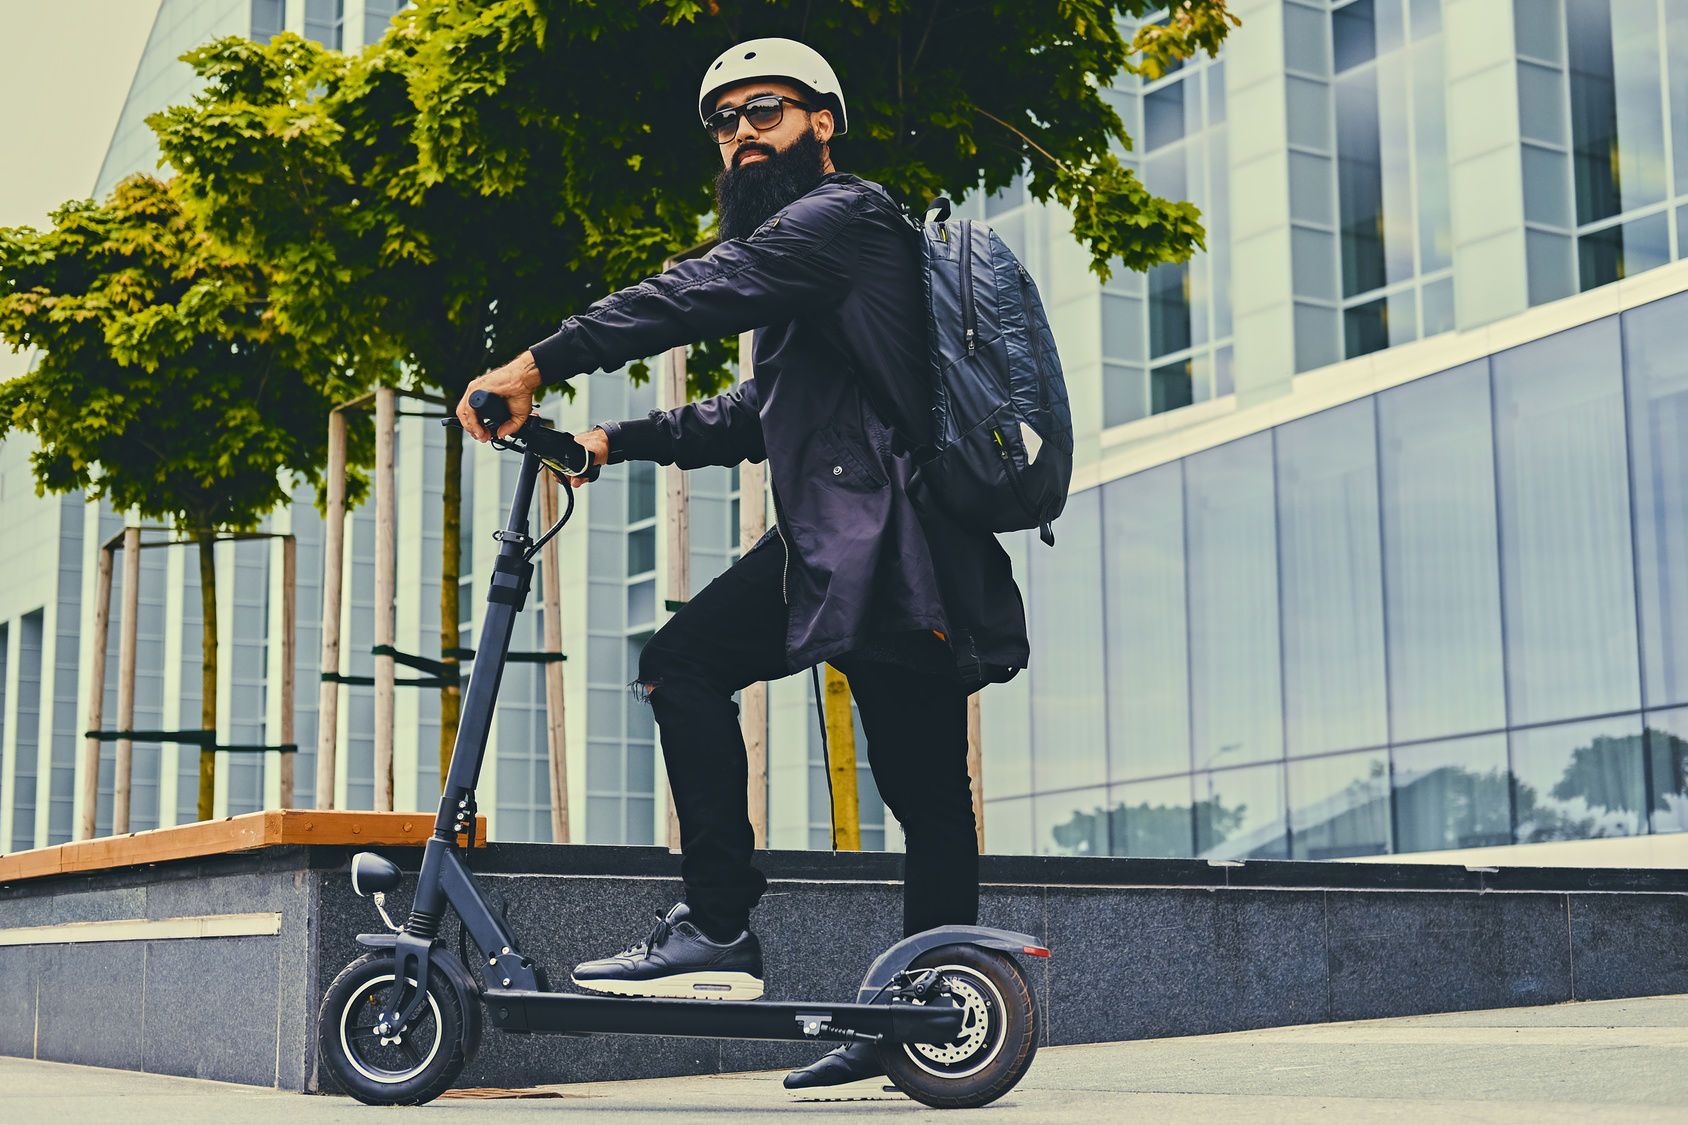scooter: (316, 392, 1050, 1125)
with helmet: (686, 38, 850, 210)
